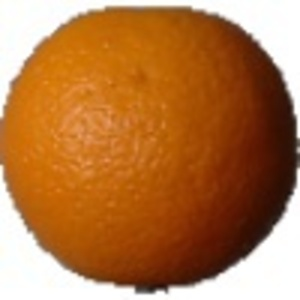laranja: (2, 3, 295, 293)
